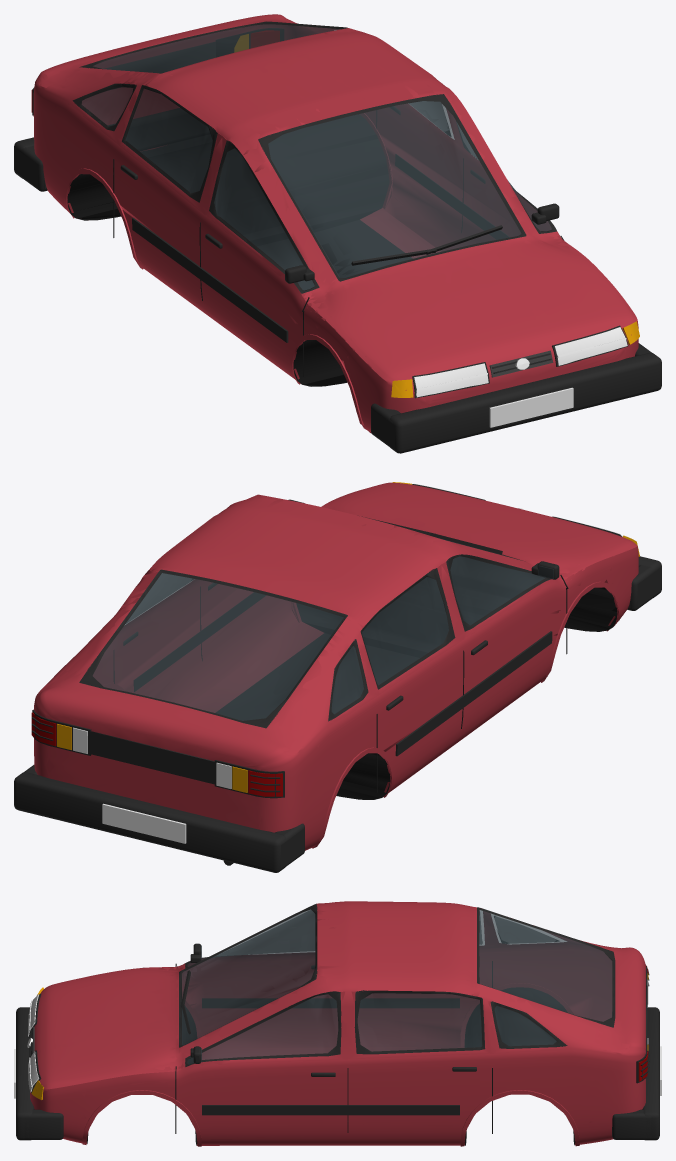
The model's file is vaz2109.glb.
The picture shows the model from 3 angles, top to bottom: view 1: azimuth 30°, elevation 25°; view 2: azimuth 150°, elevation 25°; view 3: azimuth 270°, elevation 25°; orthographic projection. The views are drawn at different scales.
Visible parts, largest first — view 1: LOD_hi, LOD0; view 2: LOD_hi, LOD0; view 3: LOD_hi, LOD0.
Part boxes in pixels (x1,y1,x2,y2): LOD_hi: (14, 14, 661, 453); LOD0: (14, 15, 649, 448); LOD_hi: (14, 482, 661, 872); LOD0: (26, 482, 661, 868); LOD_hi: (14, 901, 661, 1146); LOD0: (28, 901, 648, 1145).
Size of what is drawn, in the model's own units: 1.7 by 1.21 by 4.22.
